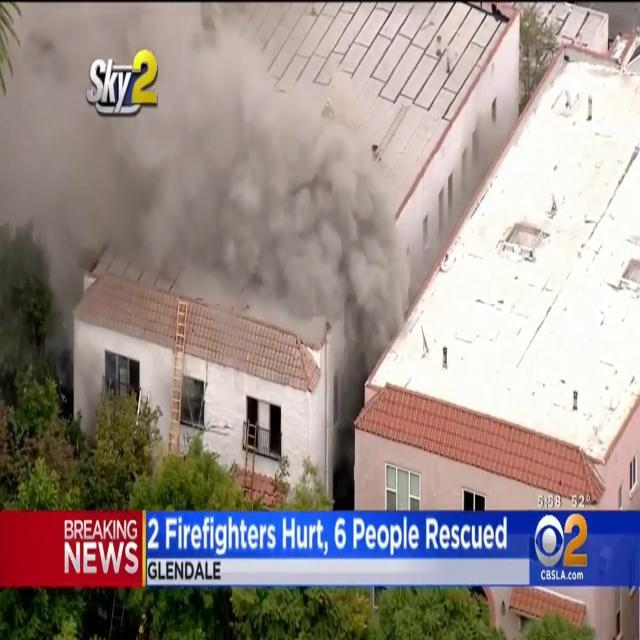Smoke: (0, 19, 204, 405), (265, 100, 405, 444)
